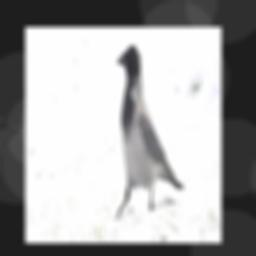Crow: (117, 43, 185, 220)
